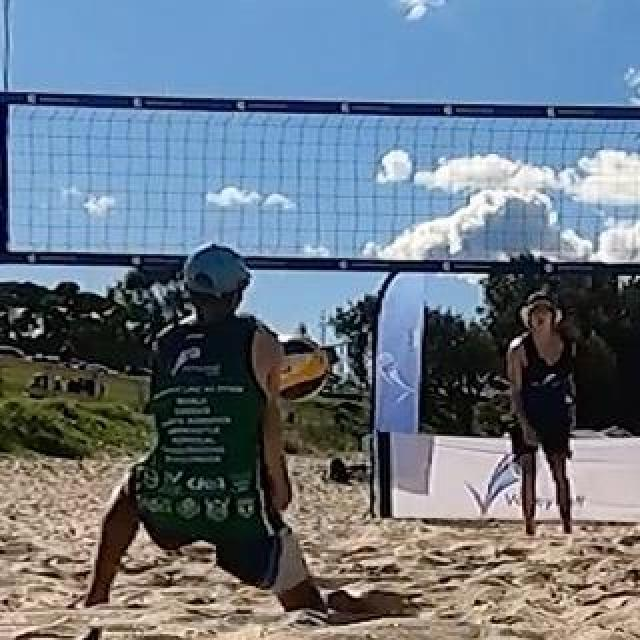volleyball: (261, 334, 329, 402)
